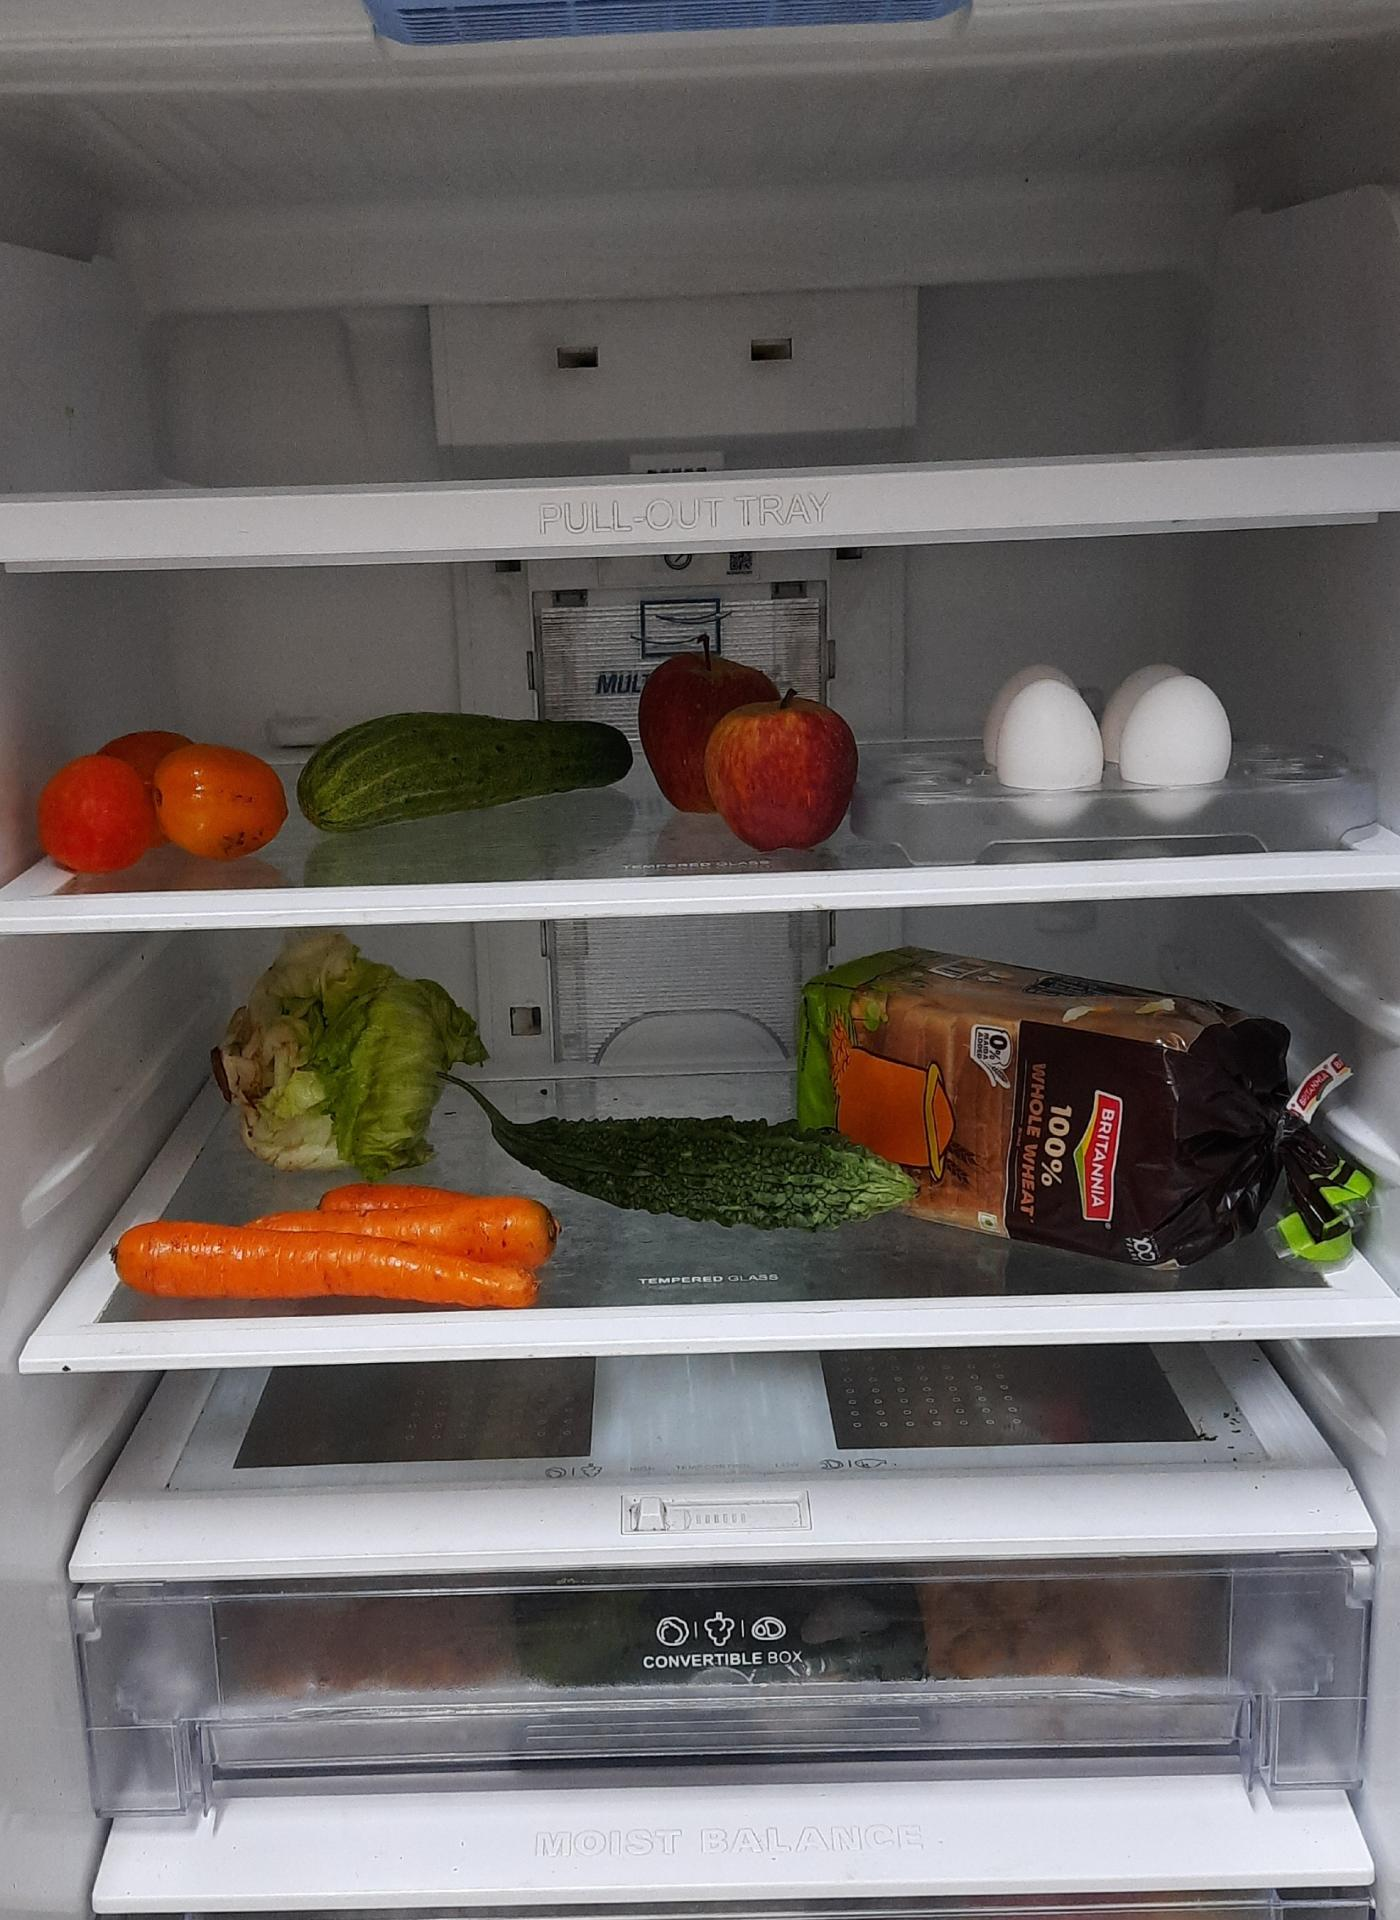apple: (640, 651, 857, 856)
bitter gourd: (459, 1117, 927, 1233)
bread: (793, 948, 1349, 1280)
carrots: (113, 1191, 558, 1306)
cucumber: (298, 711, 635, 829)
egg: (988, 665, 1239, 823)
lettuce: (210, 927, 486, 1166)
tomato: (37, 726, 286, 877)
